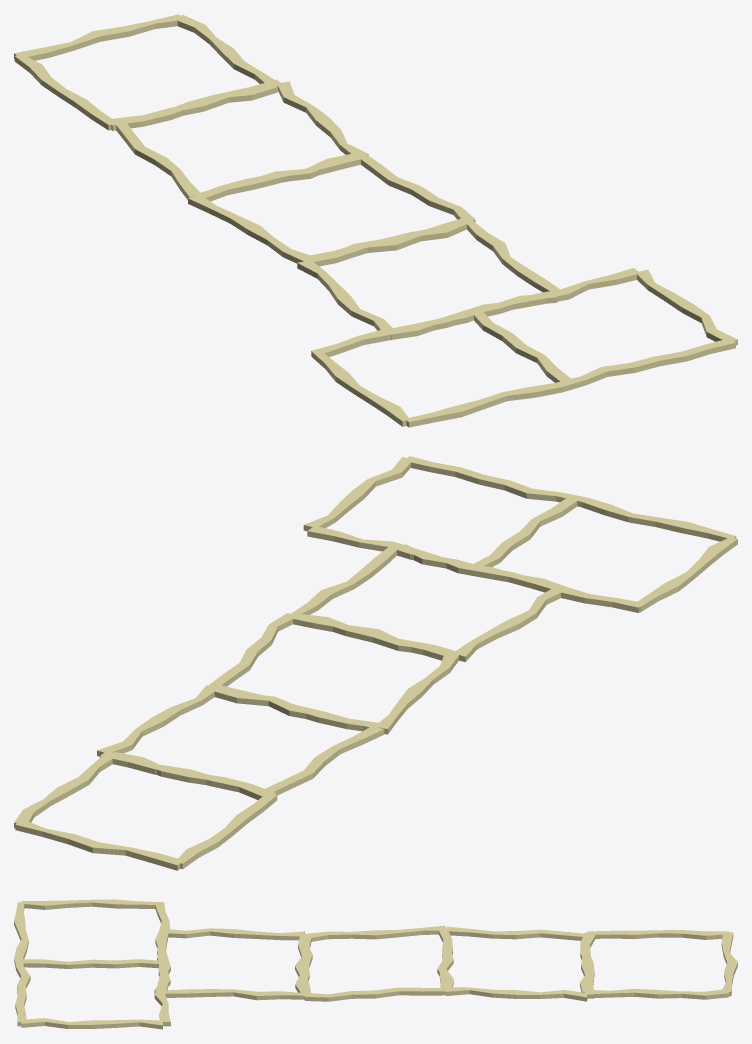
File: env_chalk_piko.obj
The picture shows the model from 3 angles, top to bottom: view 1: azimuth 30°, elevation 25°; view 2: azimuth 150°, elevation 25°; view 3: azimuth 270°, elevation 25°; orthographic projection. The views are drawn at different scales.
Parts seen in each view (by area): view 1: ChalkPiko; view 2: ChalkPiko; view 3: ChalkPiko.
Part boxes in pixels (box(x1,y1,x2,y2)): ChalkPiko: box(14, 14, 737, 427); ChalkPiko: box(14, 456, 737, 870); ChalkPiko: box(14, 899, 737, 1029).
Bounding box in the file's own units: 1.31 × 0.02 × 3.17.
